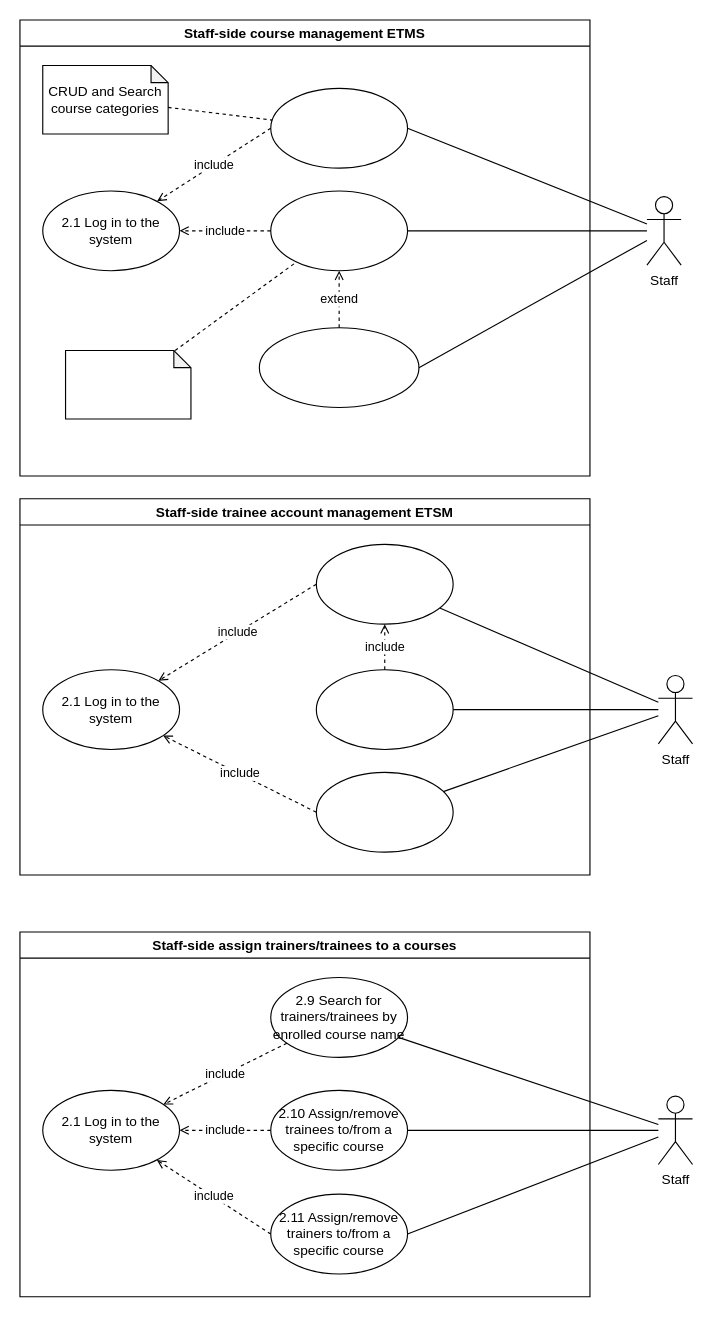
The diagram is 713 pixels wide and 1317 high, and some of its shapes have lost their labels. Here are the shapes that lost their labels. From the top down, the centre of each, then its label:
the point at 339,127: 2.2 Manage Course Categories
the point at 339,230: 2.3 Manage Courses
the point at 127,384: CRUD courses
the point at 338,367: 2.5 Search for trainees/trainers assigned to a course
the point at 384,583: 2.6 Create trainee accounts
the point at 384,709: 2.7 Delete trainees accounts
the point at 384,811: 2.8 Update profiles of trainees accounts
